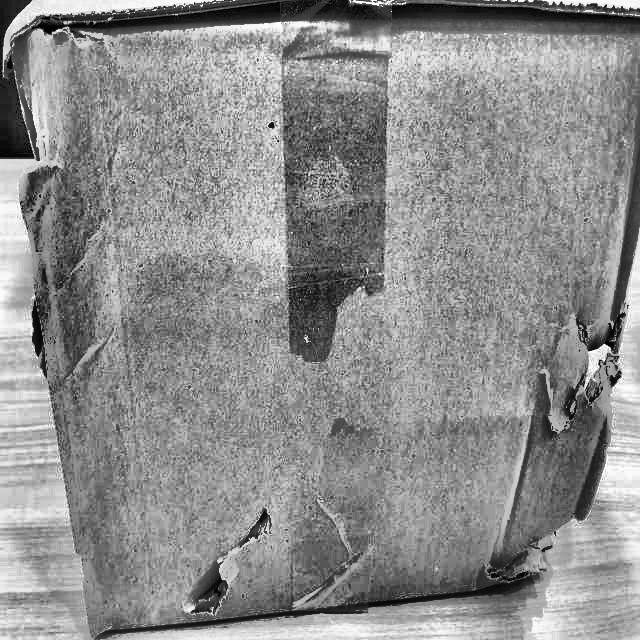box: (0, 0, 639, 639)
hole: (474, 493, 606, 597), (190, 512, 276, 616), (562, 319, 618, 423)
